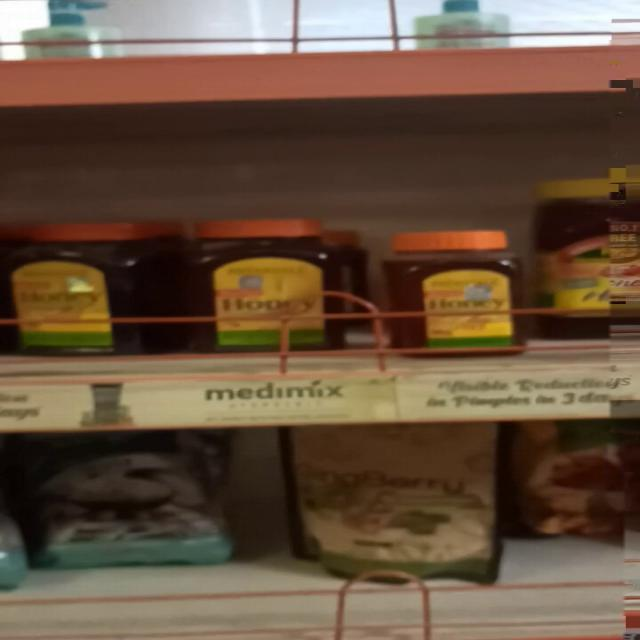Patanjali Honey: (382, 232, 542, 364), (195, 218, 335, 352), (18, 218, 140, 348)
